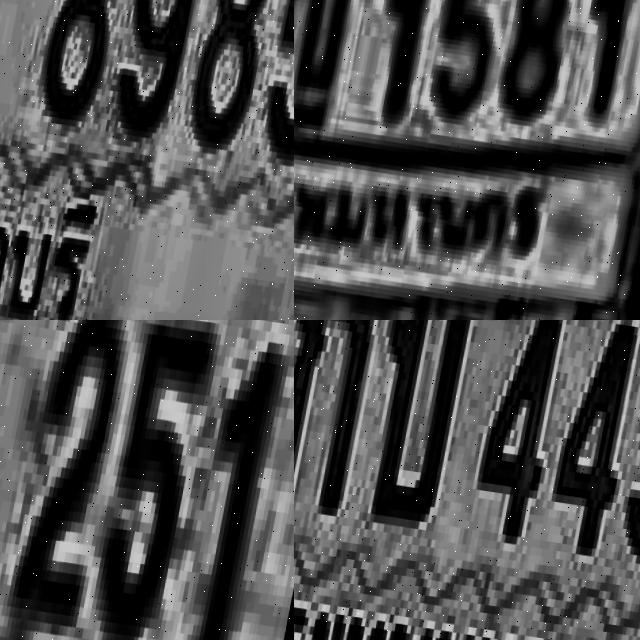license-plate: (294, 0, 640, 320), (294, 320, 640, 640), (0, 0, 294, 320), (0, 320, 294, 640)
